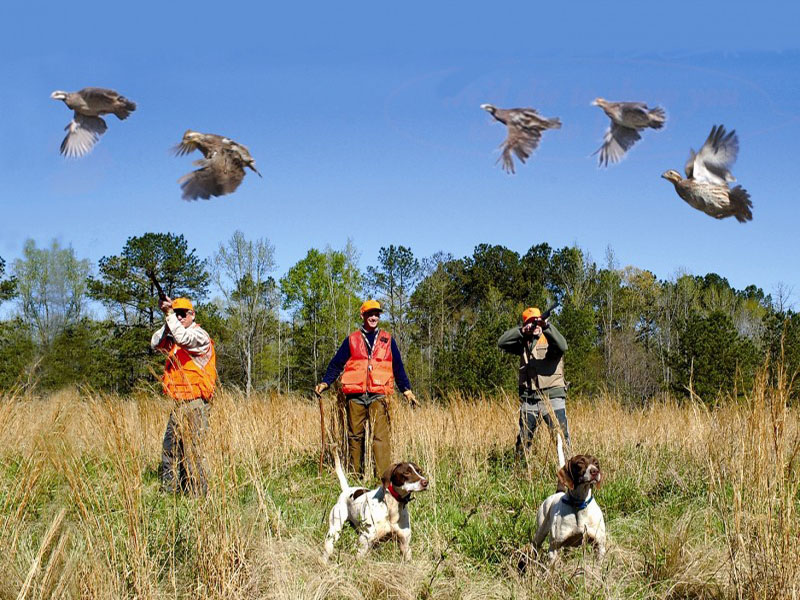cacciatore: (321, 298, 428, 473), (151, 293, 230, 490), (496, 300, 583, 475)
cane da caccia: (307, 459, 439, 566), (521, 448, 618, 560)
